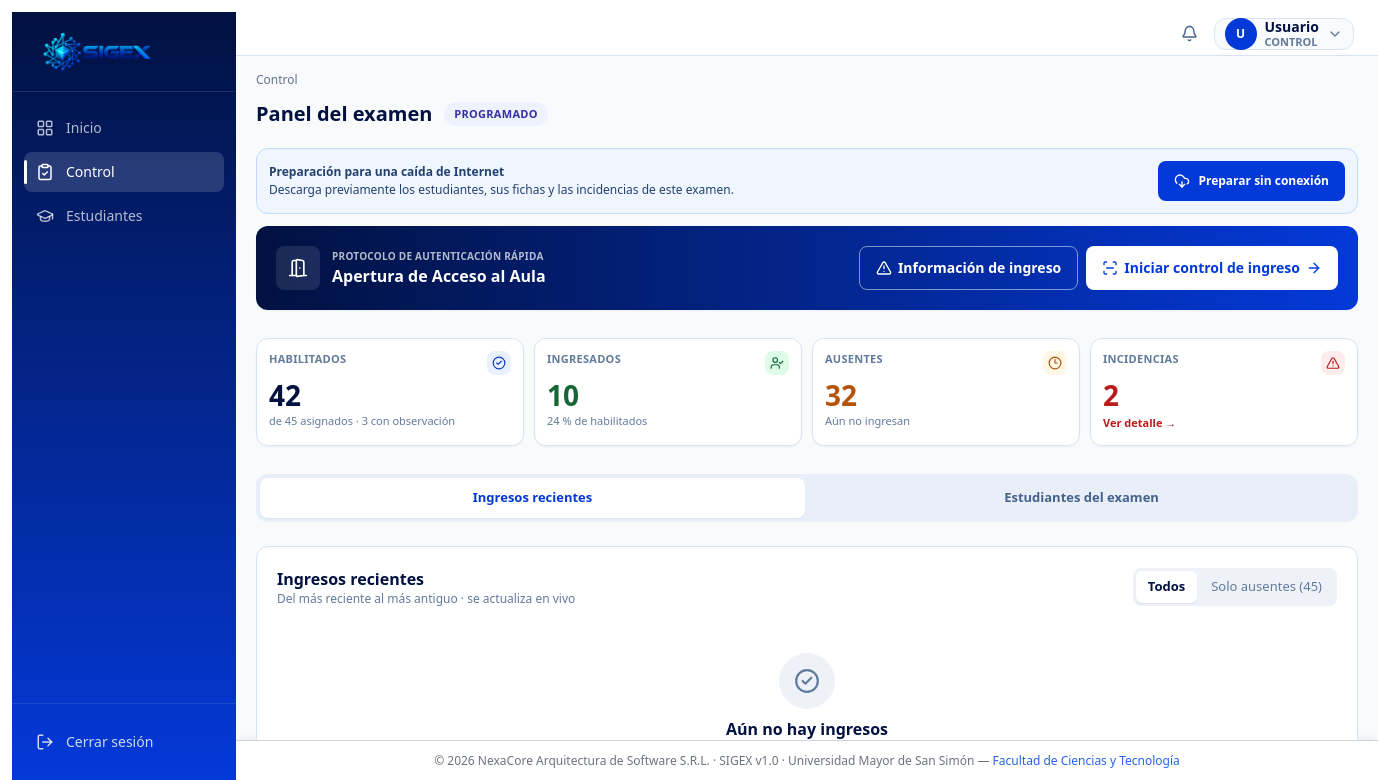
ControlExamenPage › muestra las estadísticas del resumen y las filas con su estado
Click the tab "Estudiantes del examen". click: (1082, 498)
box: [809,478,1354,518]
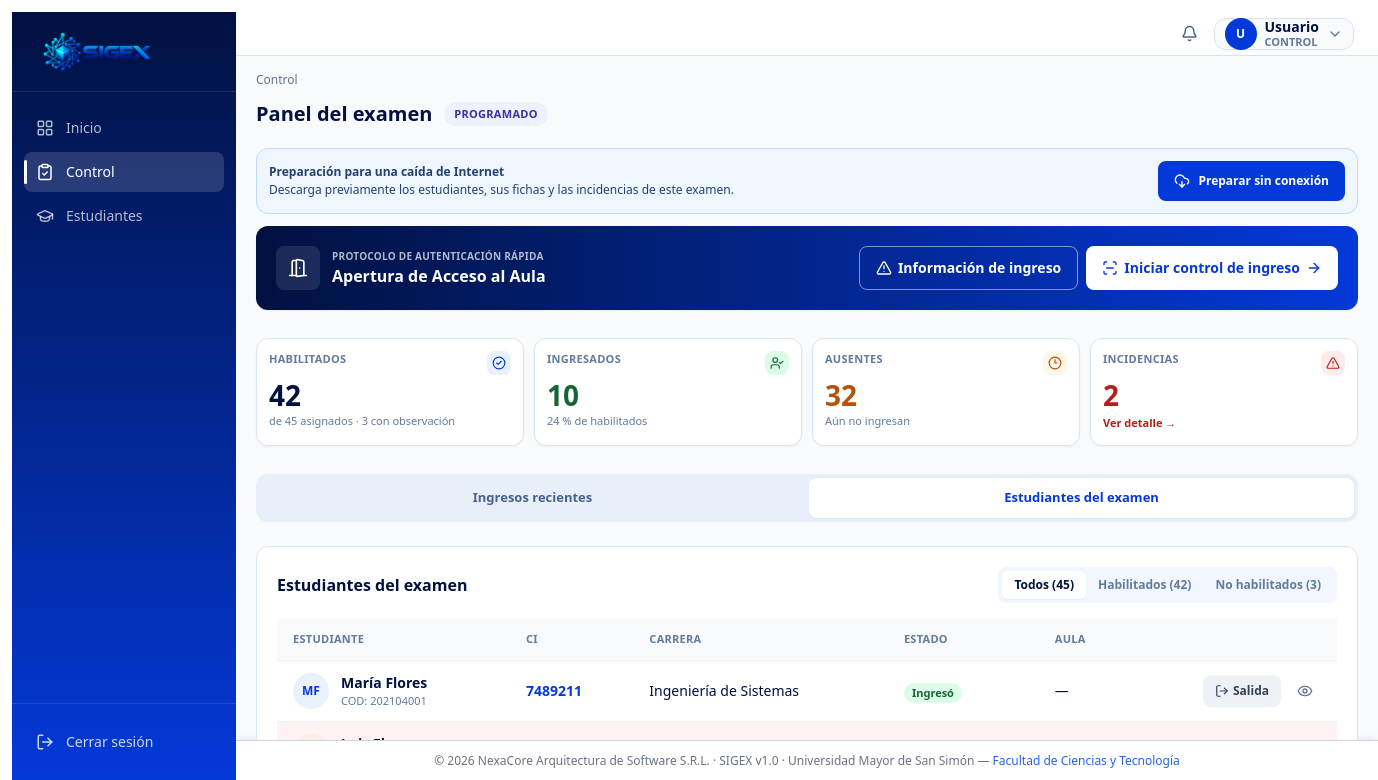
Expected: the text "42" is shown, [269,376,301,414]
Result: the text "María Flores" is shown at [341,672,427,692]
Result: the text "Ingresó" is shown at [904,682,962,703]
